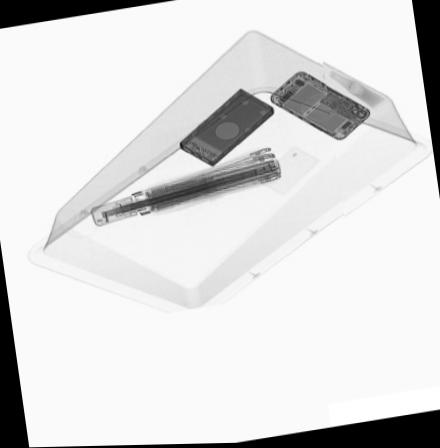Powerbank: (179, 89, 275, 168)
